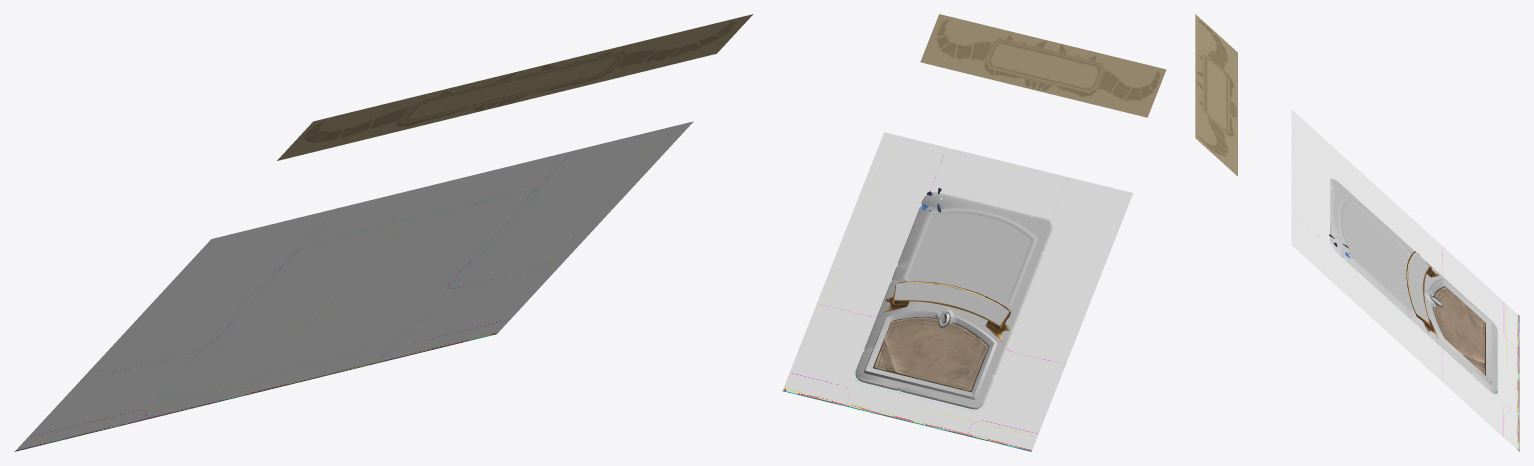
The picture shows the model from 3 angles, left to right: view 1: azimuth 30°, elevation 25°; view 2: azimuth 150°, elevation 25°; view 3: azimuth 270°, elevation 25°; orthographic projection. The views are drawn at different scales.
Parts seen in each view (by area): view 1: 19d10518.obj, 19c7caa0.obj; view 2: 19d10518.obj, 19c7caa0.obj, 19c3a338.obj, 19c72870.obj, 19b9a6e8.obj, 19c35220.obj, 19d6d3f0.obj, 6ec54c8.obj, 6f0d500.obj; view 3: 19d10518.obj, 19c7caa0.obj, 19c3a338.obj, 19c72870.obj, 19b9a6e8.obj, 19c35220.obj, 19d6d3f0.obj, 6ec54c8.obj, 6f0d500.obj.
Boxes of the visible parts, box(x1,y1,x2,y2) form: 19d10518.obj: box(14, 121, 693, 451); 19c7caa0.obj: box(277, 14, 753, 160); 19d10518.obj: box(782, 132, 1133, 451); 19c7caa0.obj: box(920, 14, 1166, 117); 19c3a338.obj: box(907, 213, 1031, 303); 19c72870.obj: box(855, 192, 1053, 409); 19b9a6e8.obj: box(873, 317, 989, 391); 19c35220.obj: box(864, 310, 997, 399); 19d6d3f0.obj: box(894, 283, 1009, 325); 6ec54c8.obj: box(901, 208, 1037, 307); 6f0d500.obj: box(884, 281, 1010, 341); 19d10518.obj: box(1291, 109, 1519, 451); 19c7caa0.obj: box(1195, 14, 1237, 176); 19c3a338.obj: box(1342, 201, 1411, 305); 19c72870.obj: box(1330, 179, 1497, 393); 19b9a6e8.obj: box(1433, 286, 1485, 375); 19c35220.obj: box(1426, 279, 1491, 384); 19d6d3f0.obj: box(1408, 252, 1429, 323); 6ec54c8.obj: box(1337, 196, 1413, 310); 6f0d500.obj: box(1406, 251, 1438, 338).
Size of the model in its own units: 0.0176 by 0.0185 by 0.0177.
